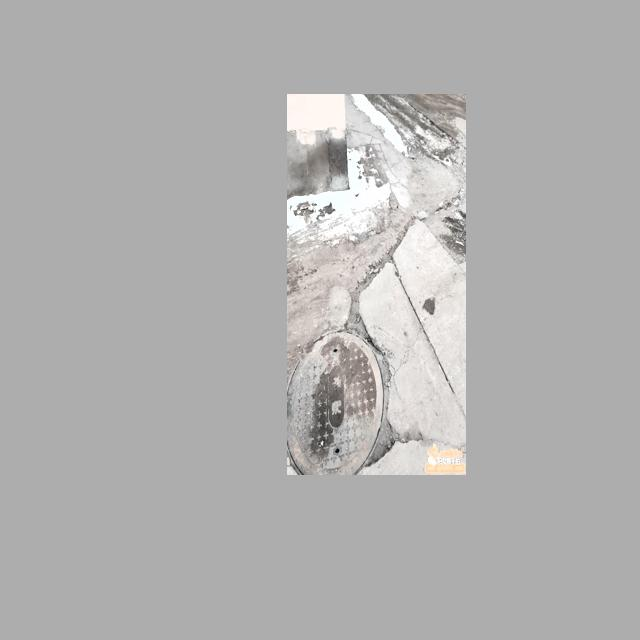circle: (289, 319, 414, 471)
